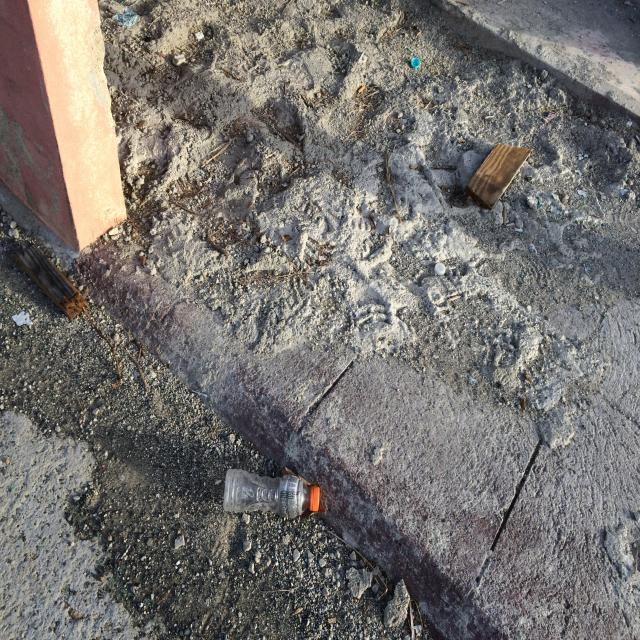litter: (223, 469, 320, 518), (279, 474, 303, 519), (310, 487, 320, 512), (434, 262, 446, 276), (411, 58, 420, 69), (357, 86, 365, 93)
